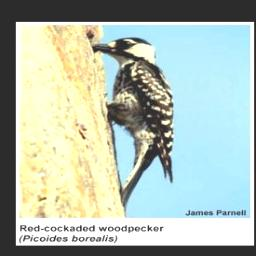Woodpecker: (87, 36, 180, 208)
